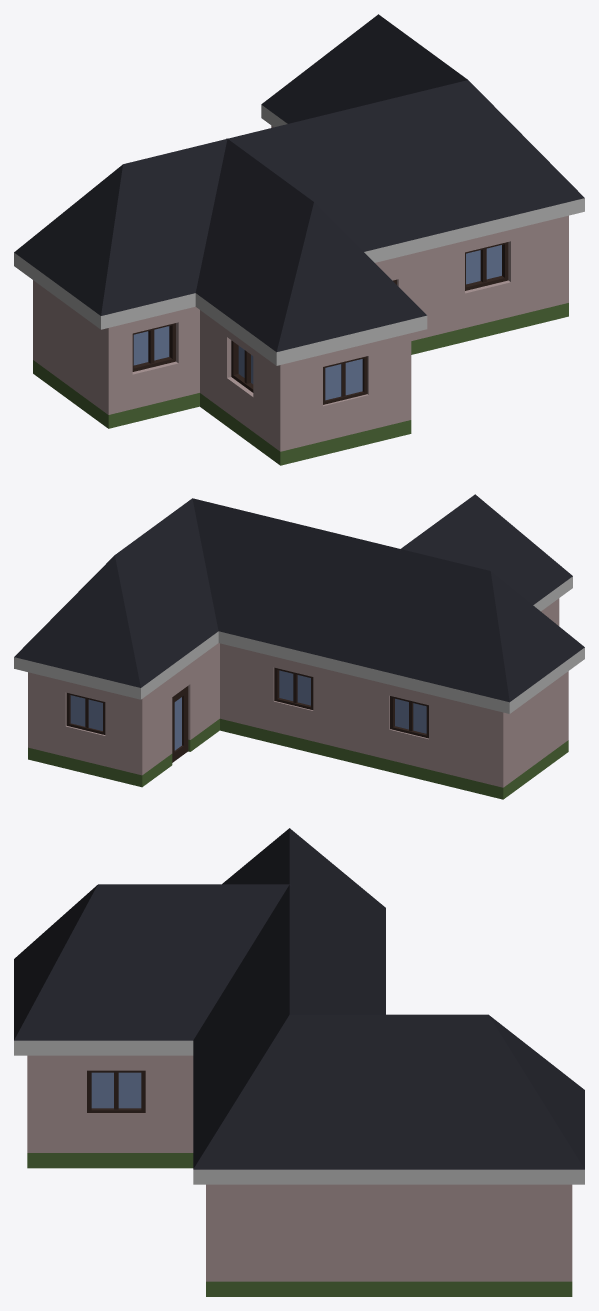
The model's file is FamilyHouse_08.fbx.
3 renders of one model, top to bottom at view 1: azimuth 30°, elevation 25°; view 2: azimuth 150°, elevation 25°; view 3: azimuth 270°, elevation 25°, orthographic. The views are drawn at different scales.
Parts seen in each view (by area): view 1: FamilyHouse_08; view 2: FamilyHouse_08; view 3: FamilyHouse_08.
Part boxes in pixels (x1,y1,x2,y2): FamilyHouse_08: (14, 14, 584, 465); FamilyHouse_08: (14, 494, 584, 799); FamilyHouse_08: (14, 828, 584, 1296).
Bounding box in the file's own units: 15.09 × 6.68 × 13.91.
